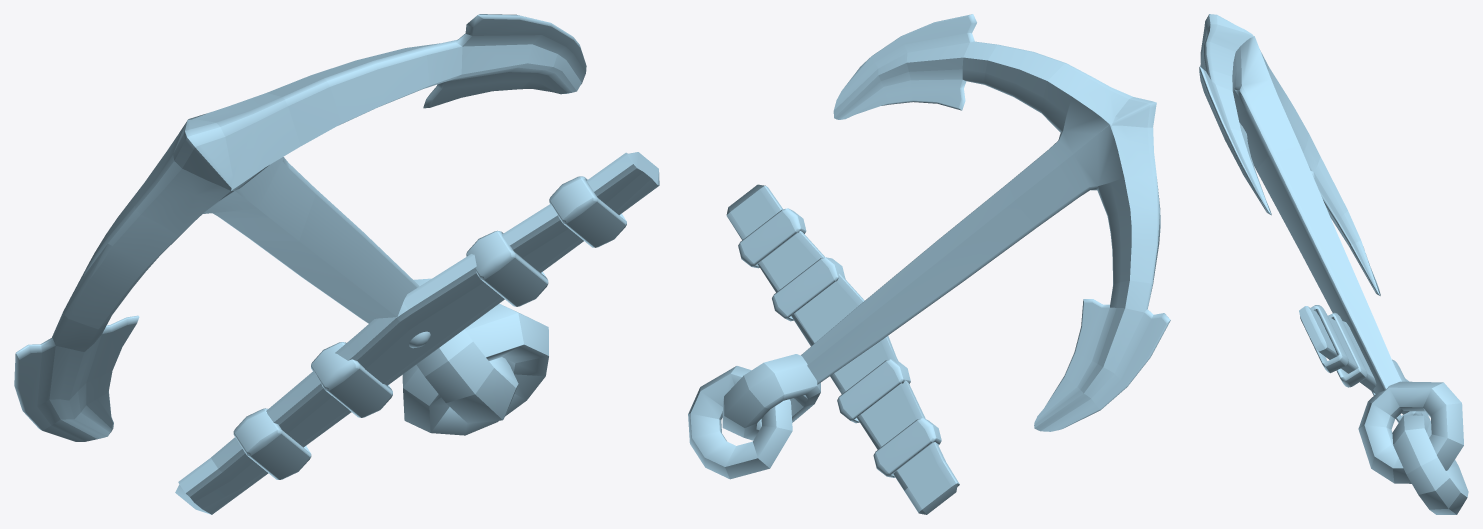
The model's file is mao.FBX.
3 renders of one model, left to right at view 1: azimuth 30°, elevation 25°; view 2: azimuth 150°, elevation 25°; view 3: azimuth 270°, elevation 25°, orthographic. The views are drawn at different scales.
Visible parts, largest first — view 1: Box1578957997, Box1578957993, Torus02, Torus01, Box1578957992, Box1578957996, Box1578957994, Box1578957995; view 2: Box1578957997, Box1578957993, Torus02, Torus01, Box1578957996, Box1578957992, Box1578957995, Box1578957994; view 3: Box1578957997, Torus01, Torus02, Box1578957993, Box1578957994, Box1578957992.
Part boxes in pixels (box(x1,y1,x2,y2)): Box1578957997: box(14, 14, 586, 441); Box1578957993: box(175, 152, 659, 514); Torus02: box(402, 303, 548, 435); Torus01: box(414, 278, 518, 423); Box1578957992: box(466, 230, 548, 306); Box1578957996: box(311, 342, 392, 417); Box1578957994: box(549, 176, 626, 247); Box1578957995: box(233, 408, 311, 479); Box1578957997: box(801, 14, 1170, 431); Box1578957993: box(726, 184, 959, 514); Torus02: box(688, 366, 792, 479); Torus01: box(722, 354, 820, 440); Box1578957996: box(837, 359, 910, 423); Box1578957992: box(772, 257, 845, 321); Box1578957995: box(873, 418, 941, 477); Box1578957994: box(738, 208, 806, 268); Box1578957997: box(1199, 14, 1400, 393); Torus01: box(1358, 381, 1463, 483); Torus02: box(1392, 415, 1468, 514); Box1578957993: box(1299, 306, 1430, 420); Box1578957994: box(1300, 305, 1348, 373); Box1578957992: box(1328, 312, 1367, 387).
Bounding box in the file's own units: 71.39 × 62.83 × 38.96.
